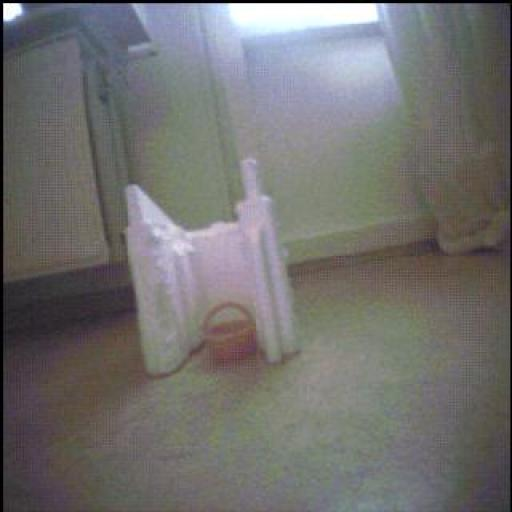Basket: (203, 304, 259, 365)
